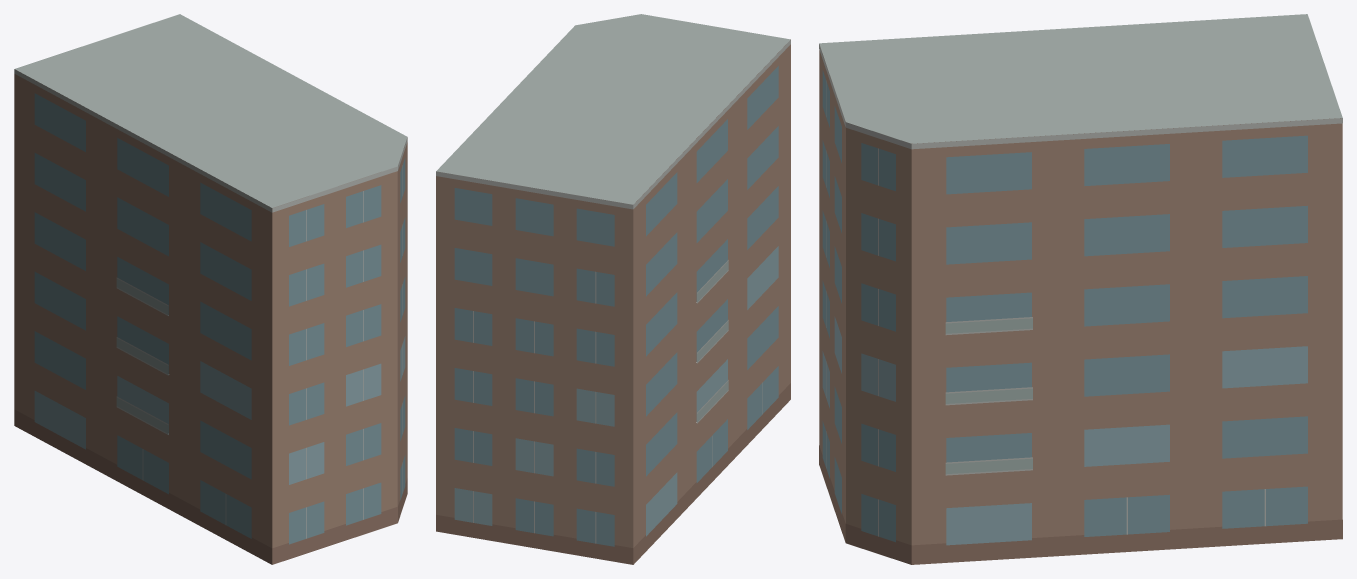
File: survey-upis-32576118.glb
3 renders of one model, left to right at view 1: azimuth 30°, elevation 25°; view 2: azimuth 150°, elevation 25°; view 3: azimuth 270°, elevation 25°, orthographic. The views are drawn at different scales.
Visible parts, largest first — view 1: survey-upis-32576118.tmp; view 2: survey-upis-32576118.tmp; view 3: survey-upis-32576118.tmp.
Boxes of the visible parts, x1,y1,x2,y2 form: survey-upis-32576118.tmp: (14,14,407,564); survey-upis-32576118.tmp: (436,14,790,564); survey-upis-32576118.tmp: (819,14,1342,564).
Bounding box in the file's own units: 12.37 × 18.7 × 21.09.
